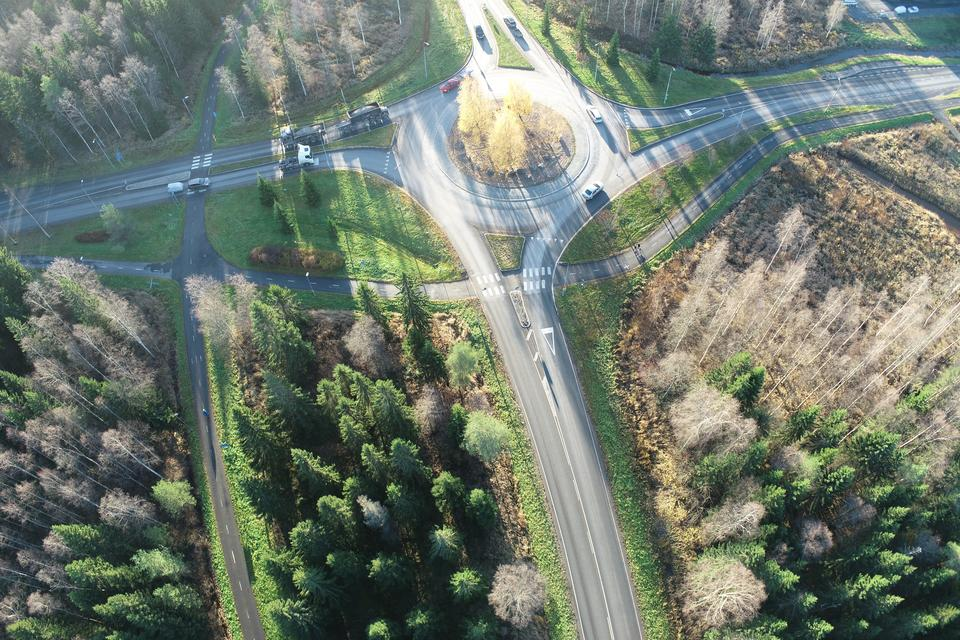intersection: (444, 247, 595, 321), (166, 134, 227, 235)
roundabout: (341, 44, 653, 238)
